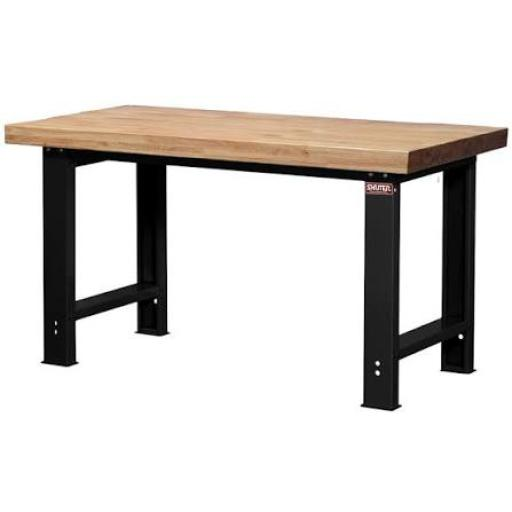meja: (3, 101, 508, 411)
